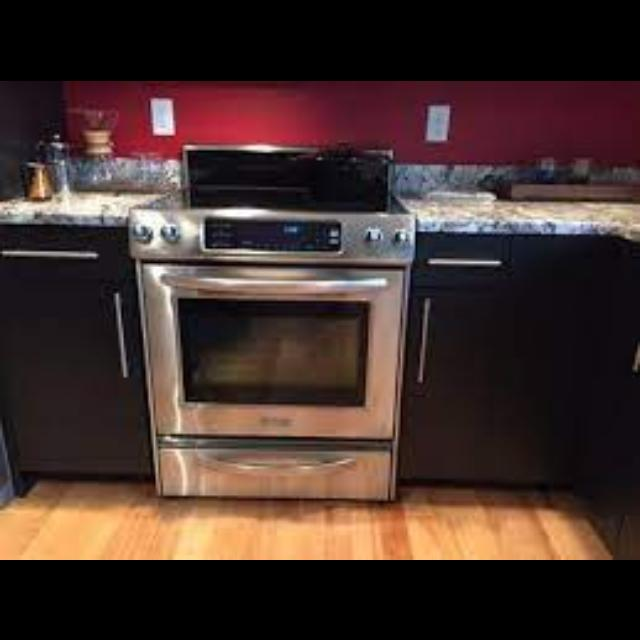Oven: (142, 262, 408, 458)
